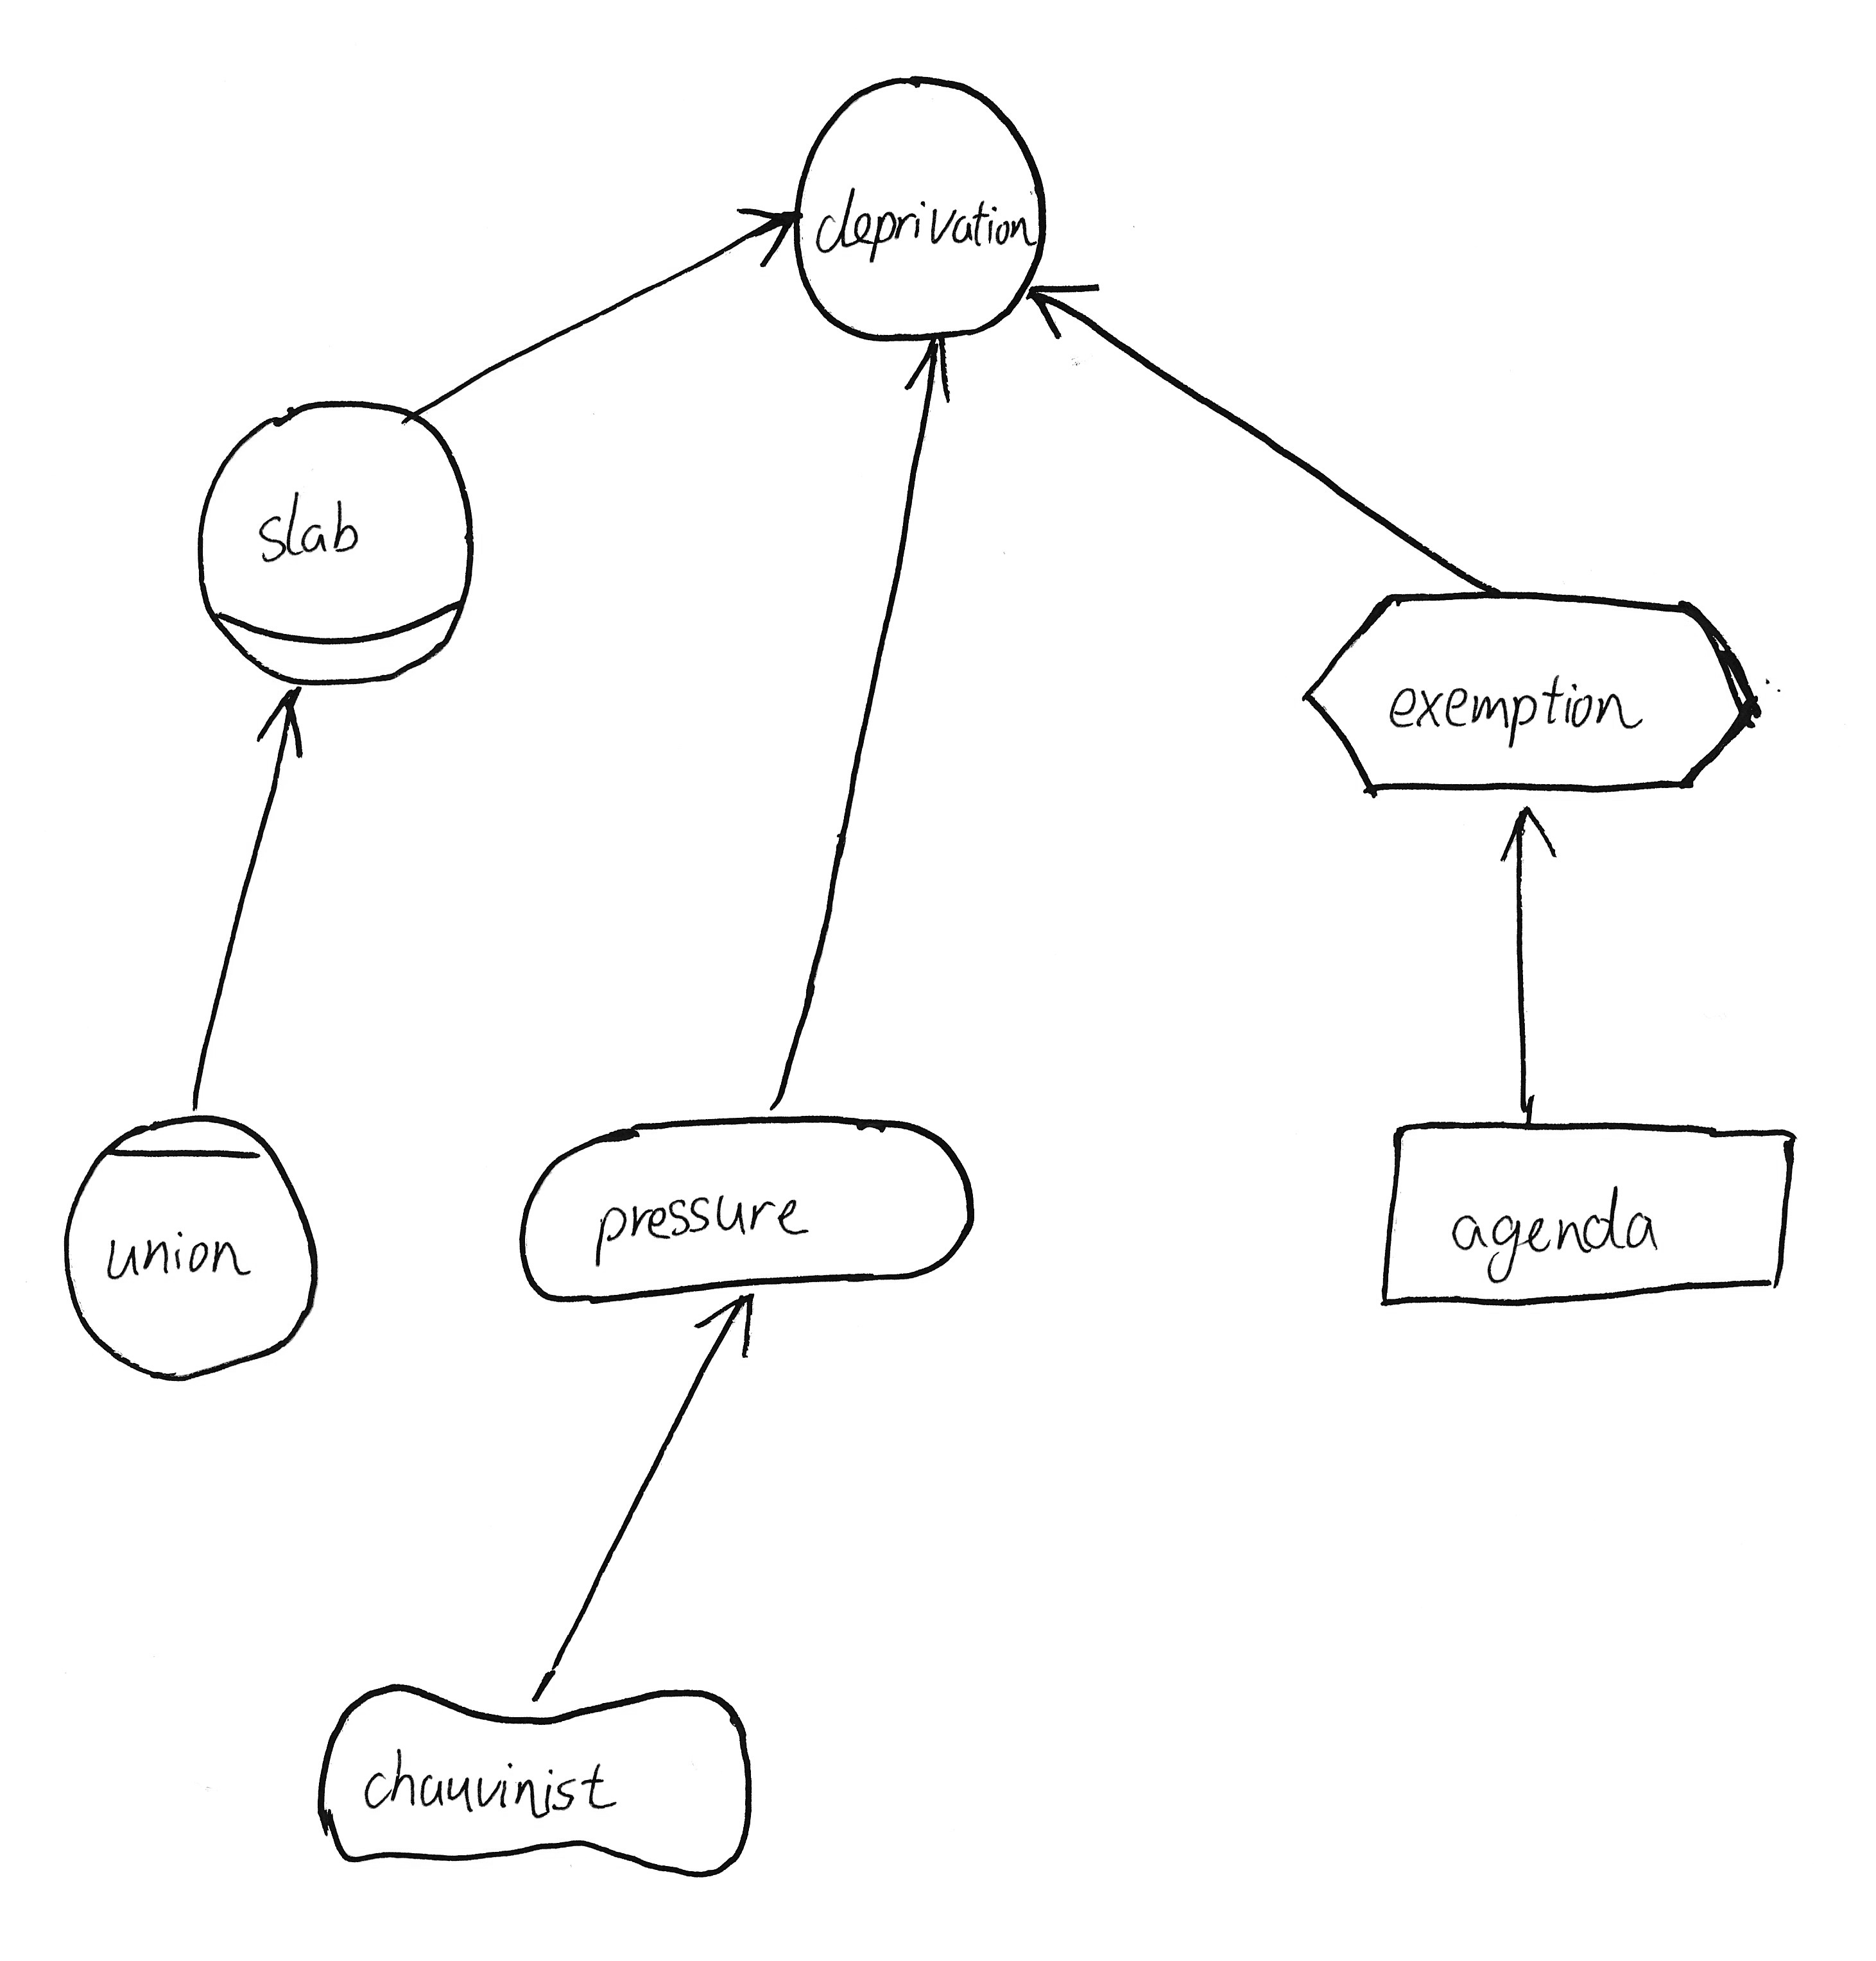actor: (778, 60, 1056, 357)
agent: (46, 1100, 331, 1404)
arrow: (235, 678, 328, 777), (730, 175, 804, 278), (1021, 270, 1107, 355), (888, 336, 965, 418), (685, 1289, 764, 1367), (1487, 797, 1568, 870)
goal: (501, 1098, 997, 1318)
quality: (300, 1660, 769, 1894)
resource: (1368, 1100, 1816, 1331)
role: (182, 389, 497, 700)
task: (1287, 569, 1769, 811)
